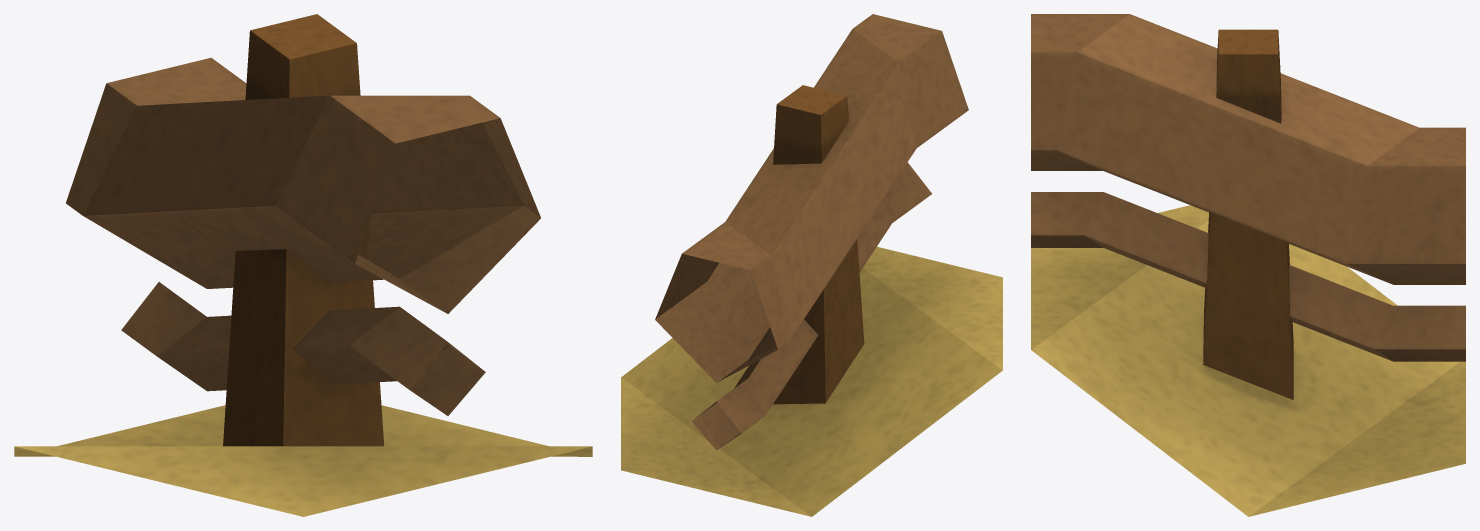
Rendered from BarriereDesert_PP_HB_C.FBX.
3 views of the same model, side by side, from view 1: azimuth 30°, elevation 25°; view 2: azimuth 150°, elevation 25°; view 3: azimuth 270°, elevation 25° (orthographic). The views are drawn at different scales.
Visible parts, largest first — view 1: BarriereDesert_PP_HB_C; view 2: BarriereDesert_PP_HB_C; view 3: BarriereDesert_PP_HB_C.
Boxes of the visible parts, left/top/right/bottom form: BarriereDesert_PP_HB_C: left=14, top=14, right=592, bottom=516; BarriereDesert_PP_HB_C: left=621, top=14, right=1002, bottom=516; BarriereDesert_PP_HB_C: left=1031, top=14, right=1465, bottom=516.
Size of the model in its own units: 0.9999 by 0.8301 by 0.8663.
